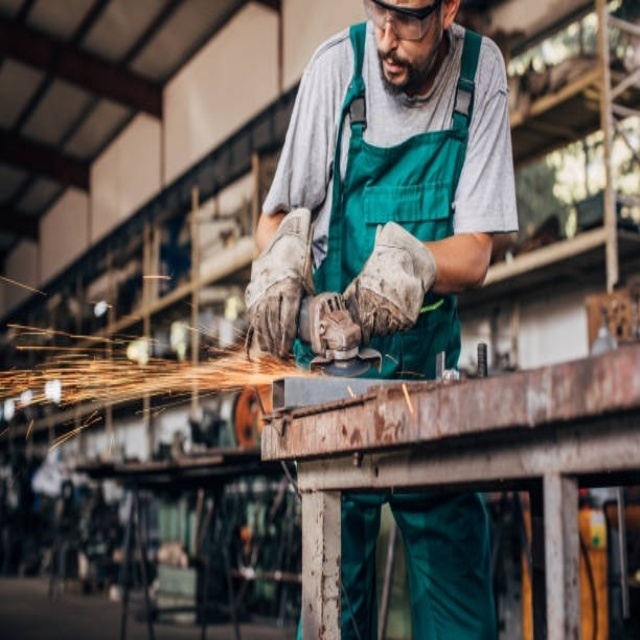Gafas: (365, 0, 446, 42)
Guantes: (320, 222, 438, 355), (244, 210, 317, 361)
Sin_mascara: (376, 50, 407, 88)
